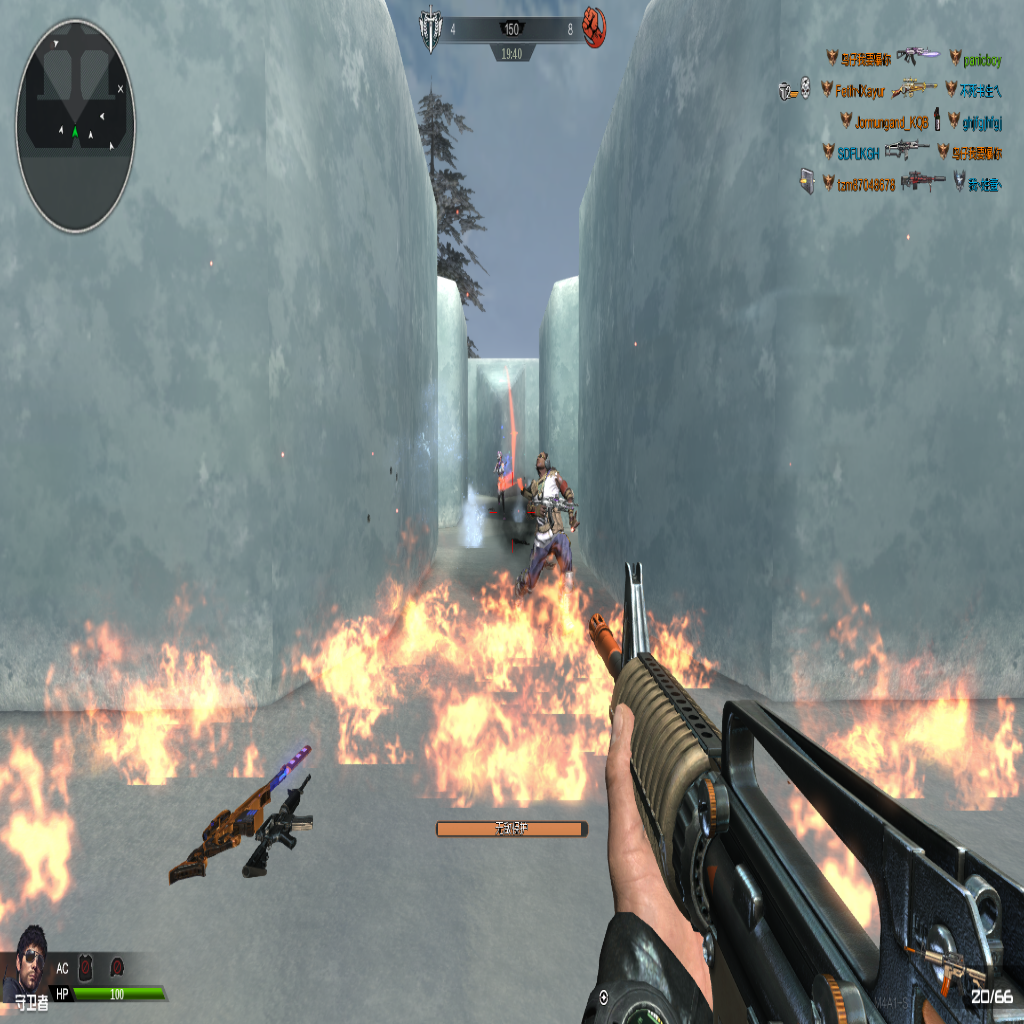tt: (523, 453, 578, 598), (494, 448, 506, 511)
